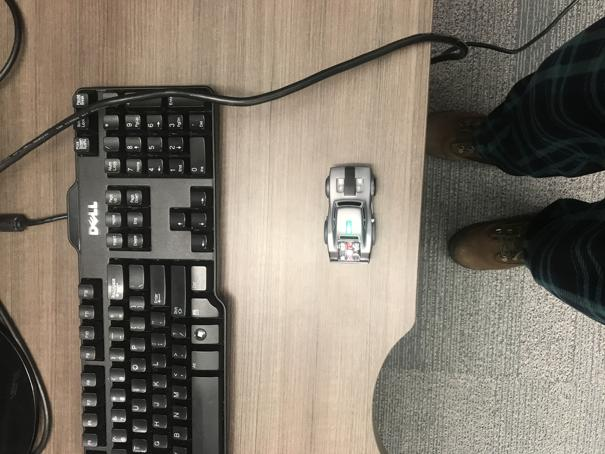Charger: (323, 163, 378, 262)
